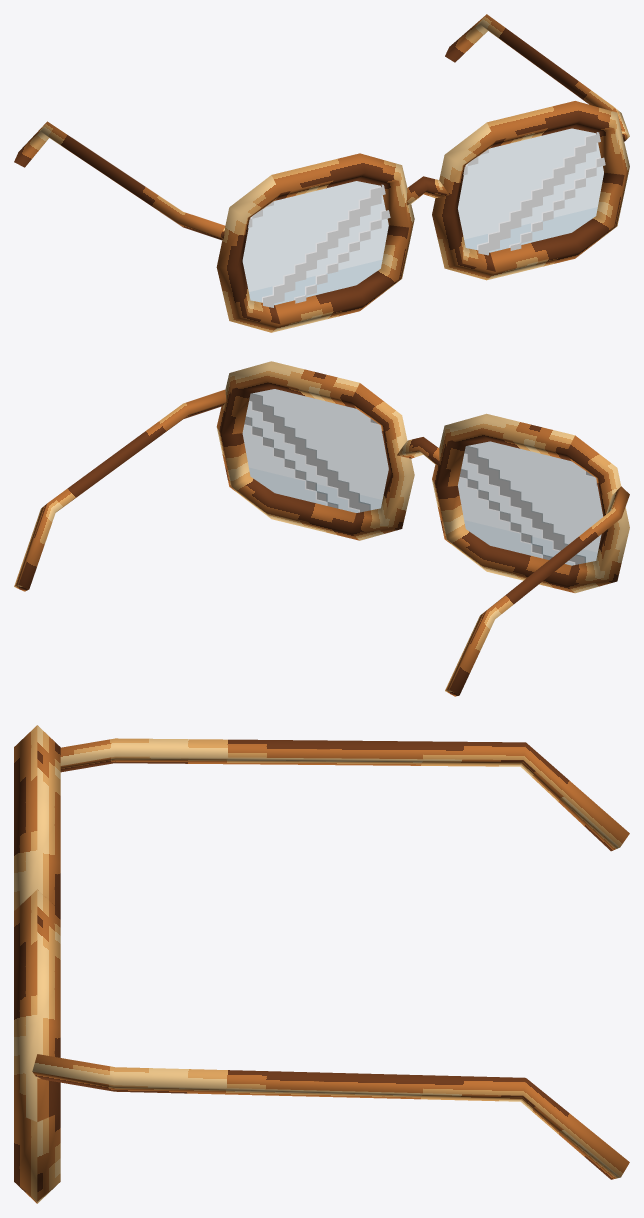
The model's file is moreB-eyeglasses.glb.
3 renders of one model, top to bottom at view 1: azimuth 30°, elevation 25°; view 2: azimuth 150°, elevation 25°; view 3: azimuth 270°, elevation 25°, orthographic. The views are drawn at different scales.
Parts seen in each view (by area): view 1: moreB.eyeglasses; view 2: moreB.eyeglasses; view 3: moreB.eyeglasses.
Part boxes in pixels (bbox=[...]): moreB.eyeglasses: bbox=[14, 14, 629, 332]; moreB.eyeglasses: bbox=[14, 361, 629, 696]; moreB.eyeglasses: bbox=[14, 725, 629, 1203].
Bounding box in the file's own units: 1.63 × 0.5414 × 1.22.
3 materials, 3 textured.
